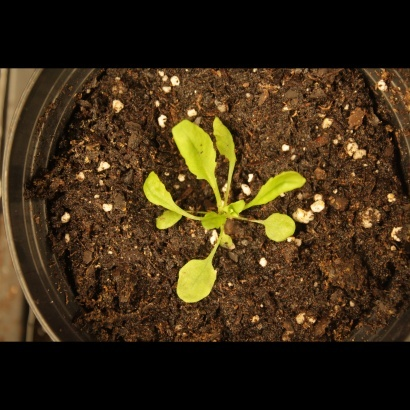leaf: (166, 120, 219, 188), (172, 253, 227, 311), (252, 168, 314, 210), (210, 111, 249, 165), (141, 166, 184, 214), (261, 210, 299, 246), (199, 206, 228, 237), (156, 205, 182, 231), (225, 196, 248, 219)
